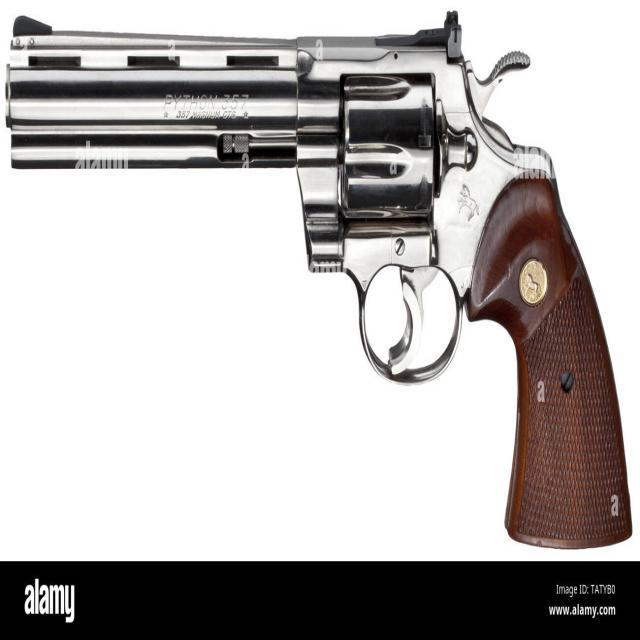handgun: (6, 5, 640, 562)
